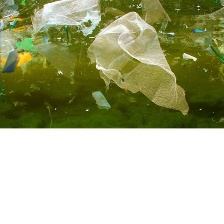plastic_bag: (83, 10, 192, 118), (25, 0, 105, 35), (31, 38, 78, 83), (139, 0, 173, 26)
